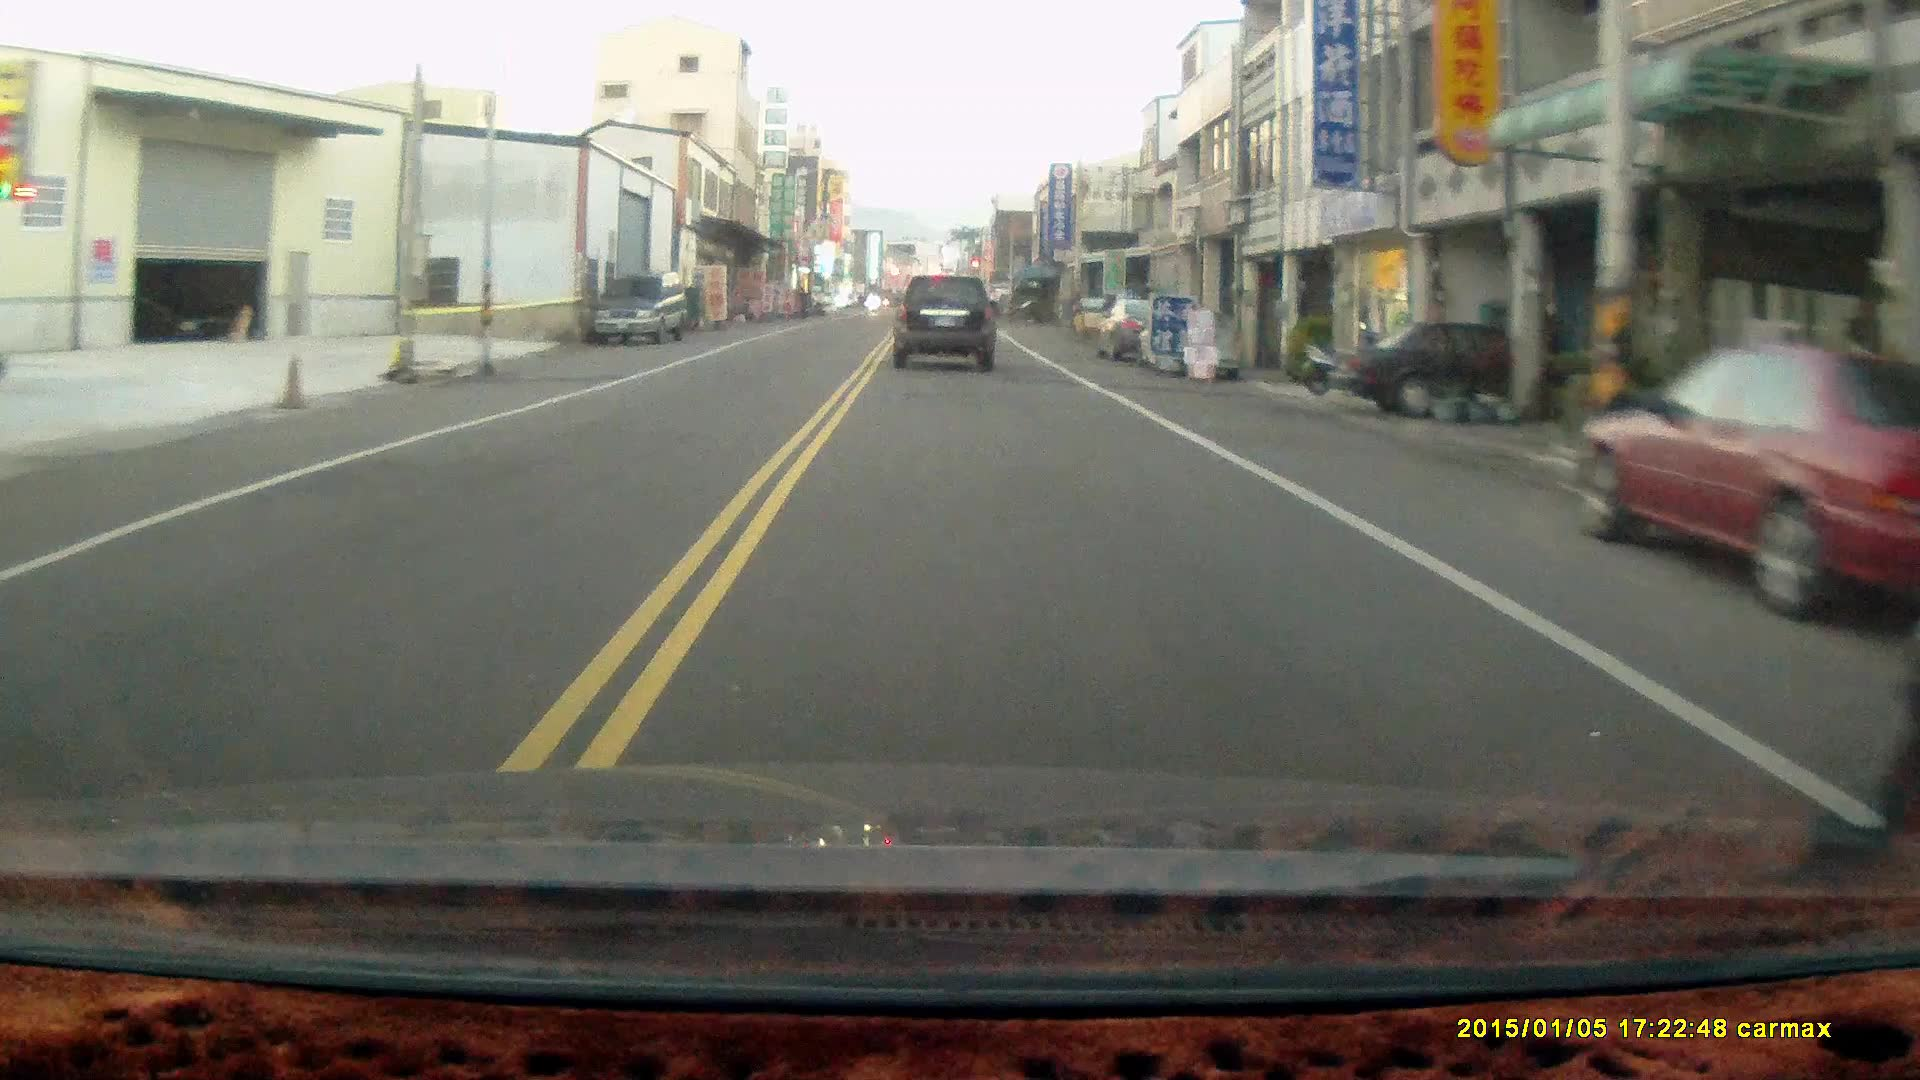vehicle: (1572, 340, 1920, 615), (1319, 319, 1618, 411), (890, 276, 998, 375), (593, 272, 694, 352)
